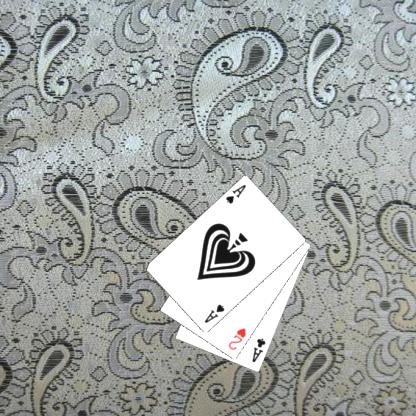2H: (226, 325, 247, 351)
AC: (250, 336, 267, 364)
AS: (223, 182, 247, 206), (202, 302, 226, 324)
